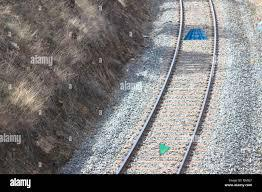Color_steel: (181, 21, 210, 45)
Dust_screen: (156, 141, 171, 158)
